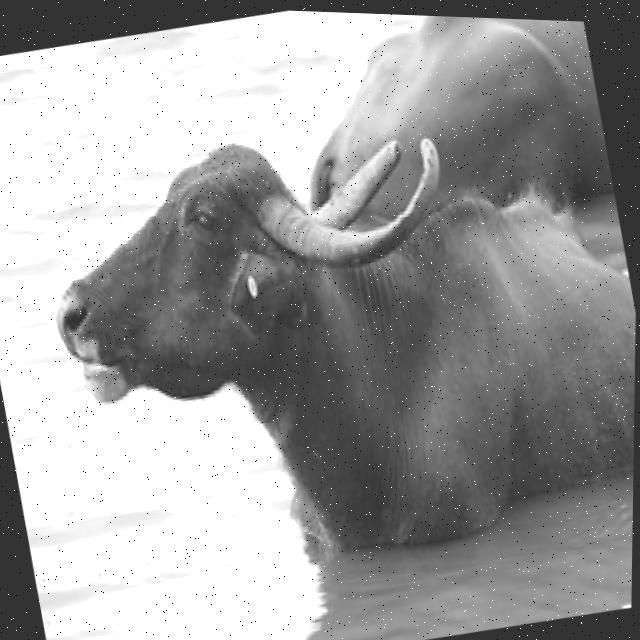Buffalo: (22, 65, 639, 620)
